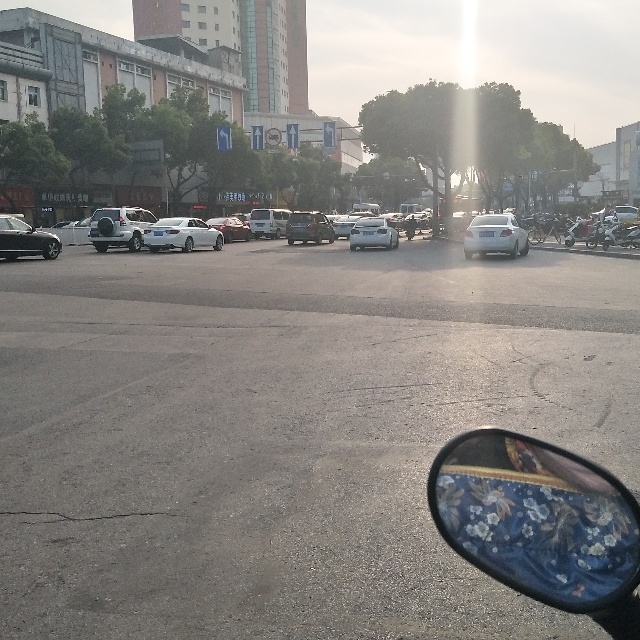left: (320, 119, 340, 152), (215, 124, 235, 153)
straight: (248, 125, 267, 153), (287, 125, 301, 149)
